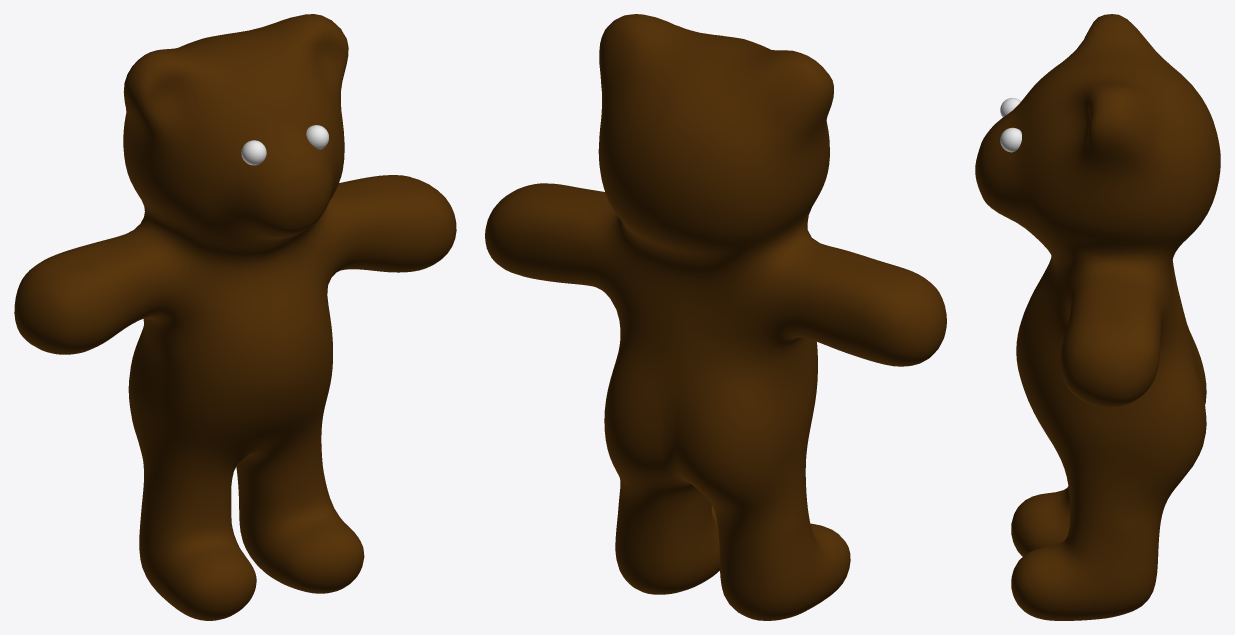
Rendered from Bear.fbx.
3 views of the same model, side by side, from view 1: azimuth 30°, elevation 25°; view 2: azimuth 150°, elevation 25°; view 3: azimuth 270°, elevation 25° (orthographic). The views are drawn at different scales.
Parts seen in each view (by area): view 1: Bear, Eyes; view 2: Bear; view 3: Bear, Eyes.
Boxes of the visible parts, <box> form: Bear: <box>14,14,456,620</box>; Eyes: <box>241,125,328,165</box>; Bear: <box>485,14,946,620</box>; Bear: <box>975,14,1220,620</box>; Eyes: <box>1000,97,1021,152</box>.
Size of the model in its own units: 241 by 294 by 122.
